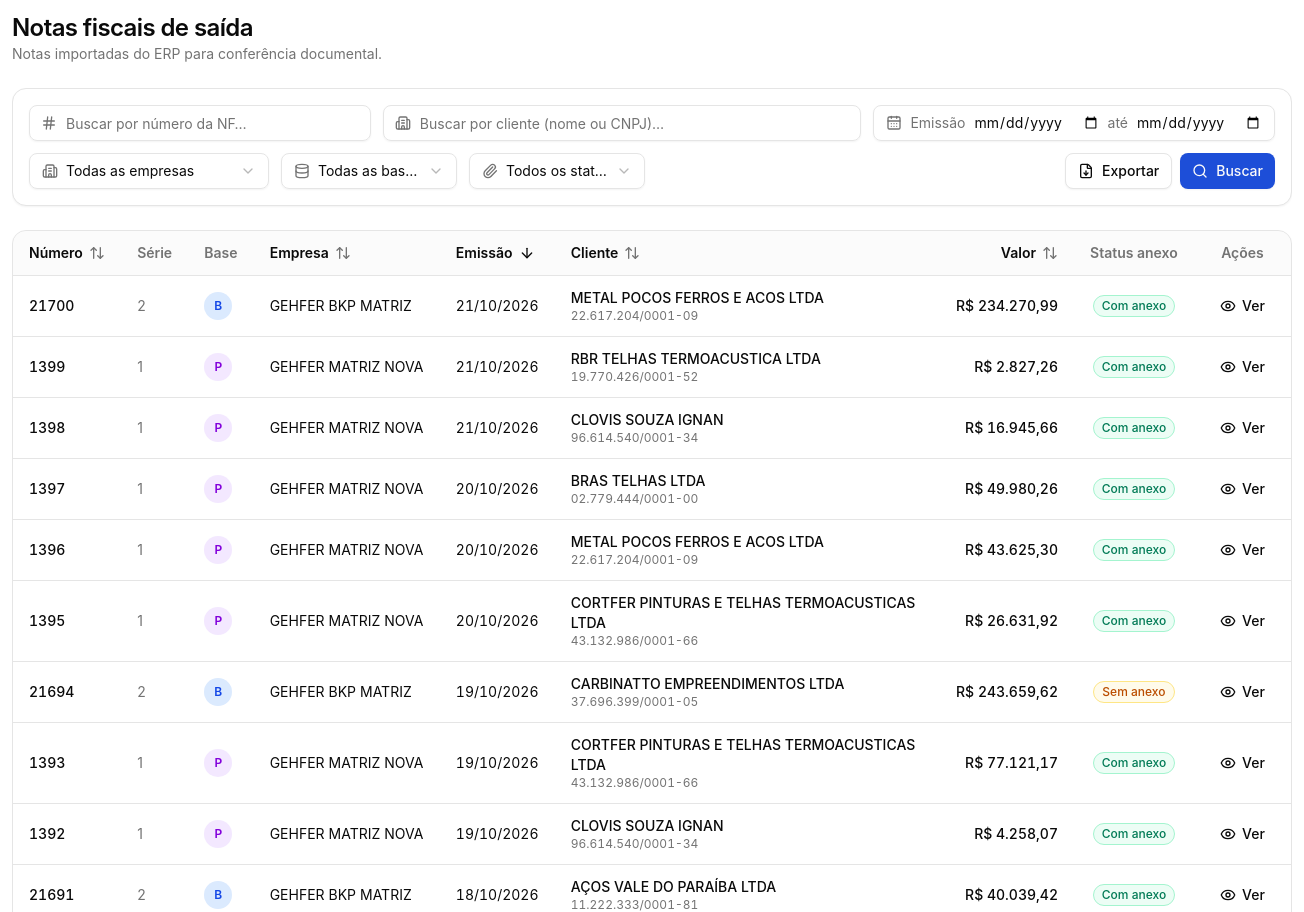
Test: NotasFiscaisPage › filtra pelo número da NF ao clicar em Buscar
Type "21700" into the field labelled "número da NF".
click(200, 123); type("21700")  # box [29,105,371,141]
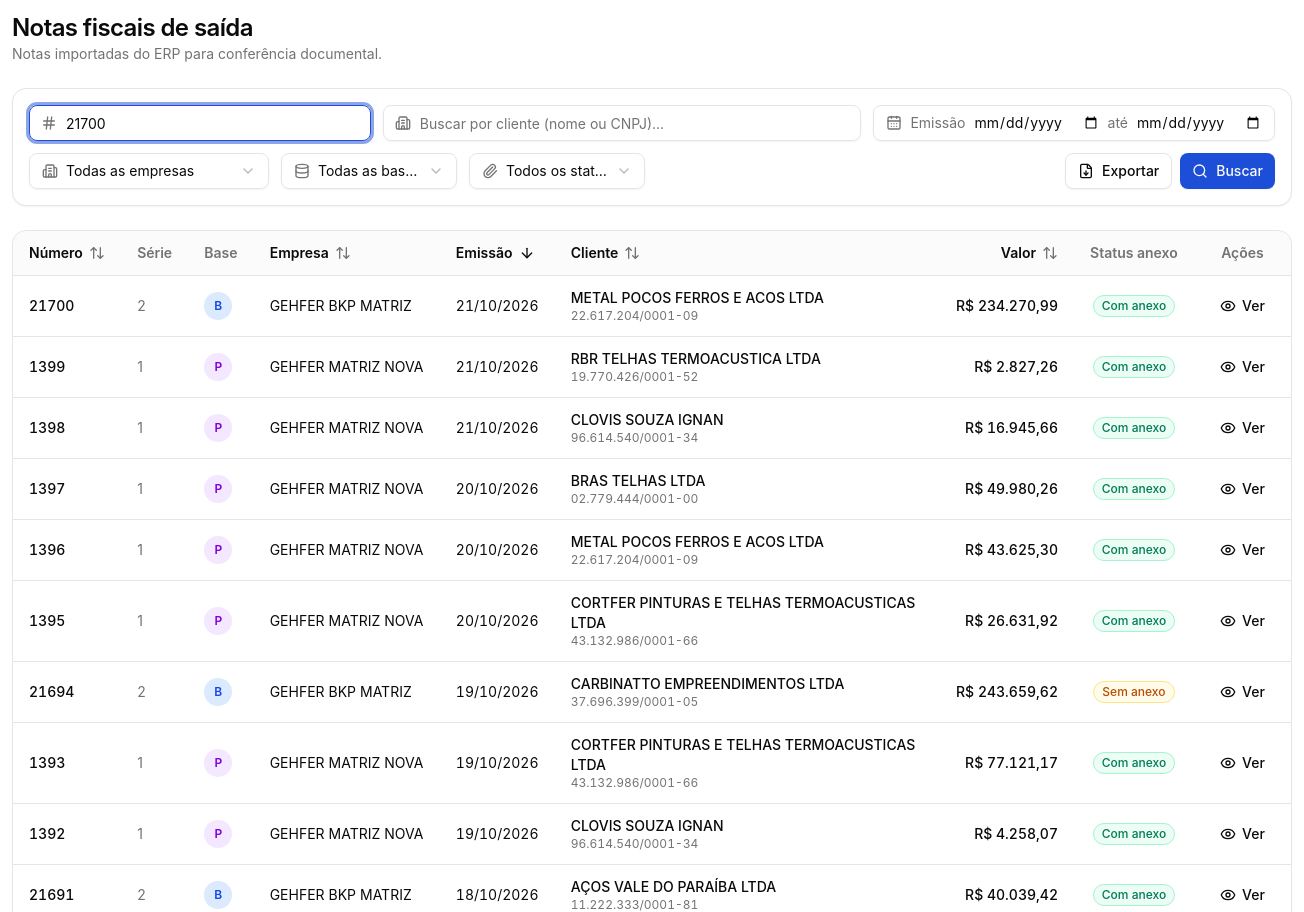
Click the button "Buscar".
click(1228, 171)  # box [1180,153,1275,189]
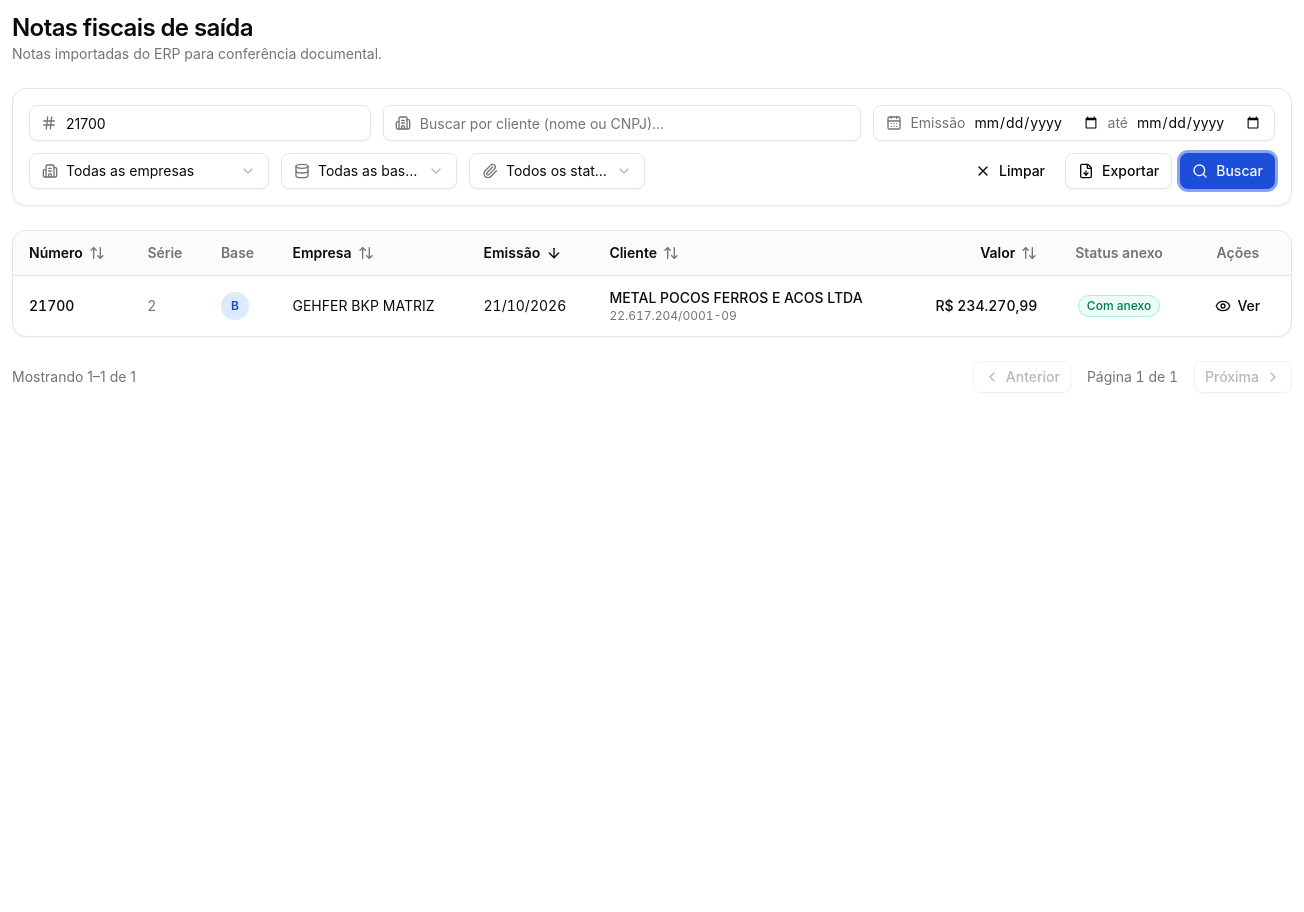
Expected: the text "Mostrando 1–1 de 1" is shown, [12,366,136,386]
